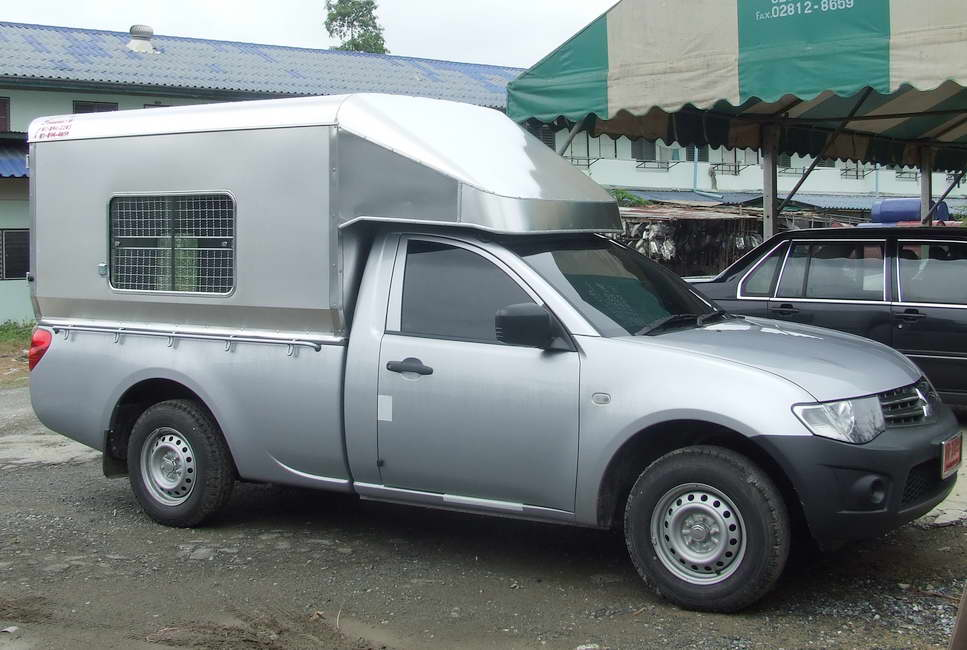pickup: (21, 215, 964, 611)
